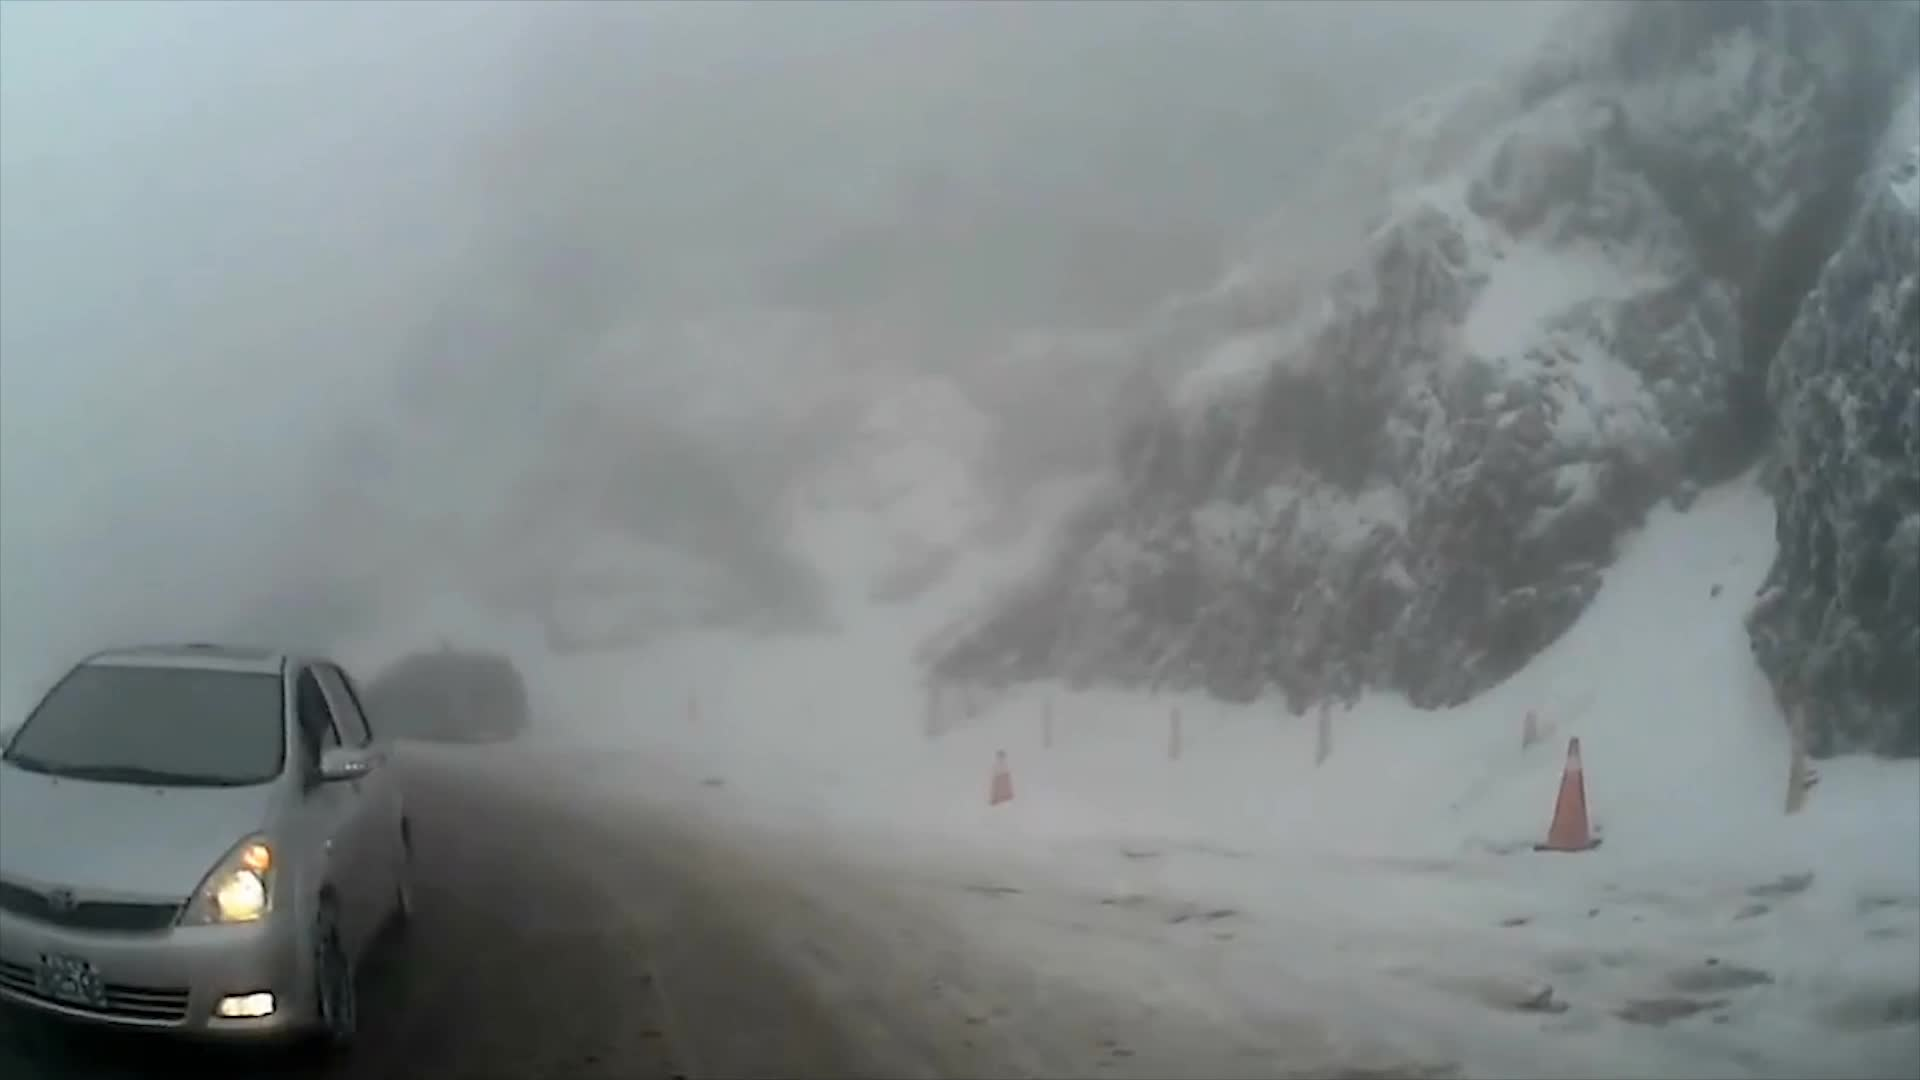vehicle: (0, 640, 419, 1065)
